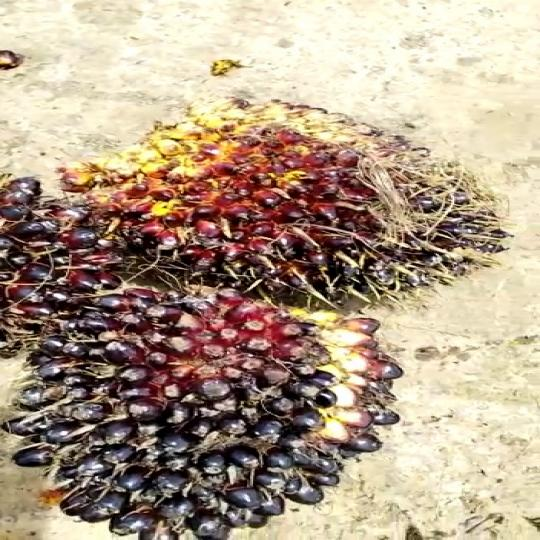mentah: (99, 92, 532, 326), (0, 284, 395, 534)
